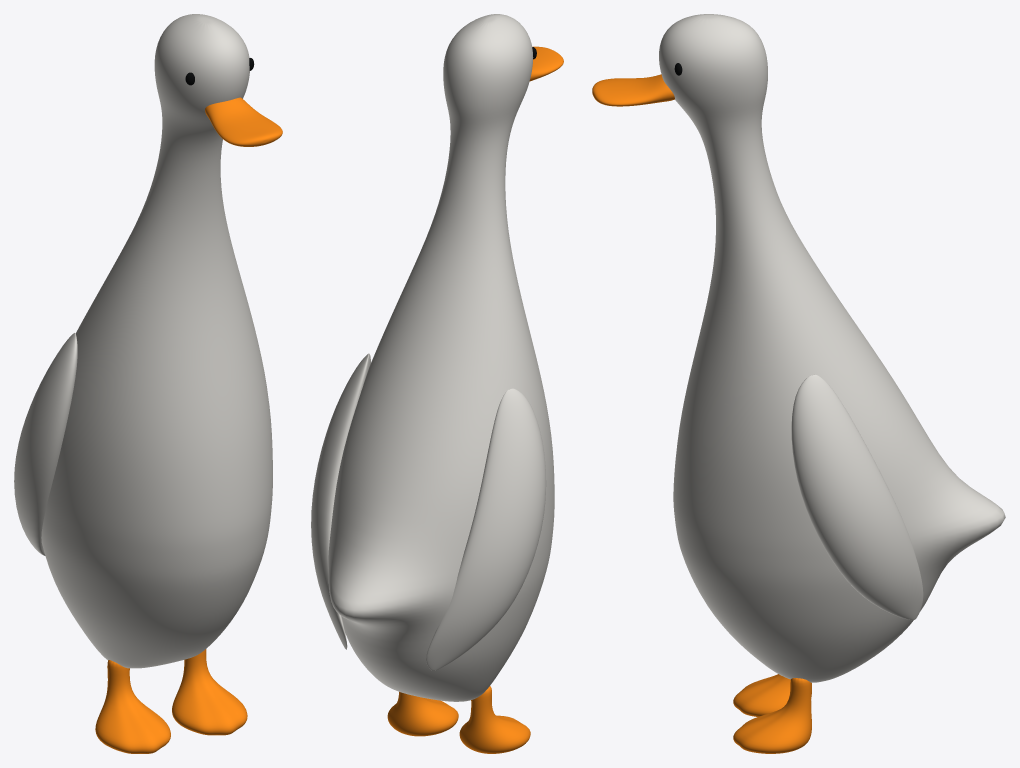
File: duck-b2-master-high.glb
3 views of the same model, side by side, from view 1: azimuth 30°, elevation 25°; view 2: azimuth 150°, elevation 25°; view 3: azimuth 270°, elevation 25° (orthographic). The views are drawn at different scales.
Parts seen in each view (by area): view 1: B2 continuous head neck torso tail.001, B2 folded wing -1.001, B2 small webbed foot -1.001, B2 small webbed foot 1.001, B2 small broad flat bill.001; view 2: B2 continuous head neck torso tail.001, B2 folded wing -1.001, B2 folded wing 1.001, B2 small webbed foot -1.001, B2 small webbed foot 1.001, B2 small broad flat bill.001; view 3: B2 continuous head neck torso tail.001, B2 folded wing 1.001, B2 small webbed foot 1.001, B2 small broad flat bill.001, B2 small webbed foot -1.001.
Boxes of the visible parts, <box> form: B2 continuous head neck torso tail.001: <box>41,14,272,668</box>; B2 folded wing -1.001: <box>14,333,77,555</box>; B2 small webbed foot -1.001: <box>95,660,170,753</box>; B2 small webbed foot 1.001: <box>172,649,247,735</box>; B2 small broad flat bill.001: <box>205,97,282,146</box>; B2 continuous head neck torso tail.001: <box>328,14,554,701</box>; B2 folded wing -1.001: <box>426,388,546,670</box>; B2 folded wing 1.001: <box>311,353,370,649</box>; B2 small webbed foot -1.001: <box>459,686,530,753</box>; B2 small webbed foot 1.001: <box>387,692,458,736</box>; B2 small broad flat bill.001: <box>529,46,563,81</box>; B2 continuous head neck torso tail.001: <box>659,14,1005,682</box>; B2 folded wing 1.001: <box>791,374,923,620</box>; B2 small webbed foot 1.001: <box>733,678,811,753</box>; B2 small broad flat bill.001: <box>592,74,674,106</box>; B2 small webbed foot -1.001: <box>733,674,811,716</box>.
Size of the model in its own units: 0.3247 by 0.994 by 0.5245.
